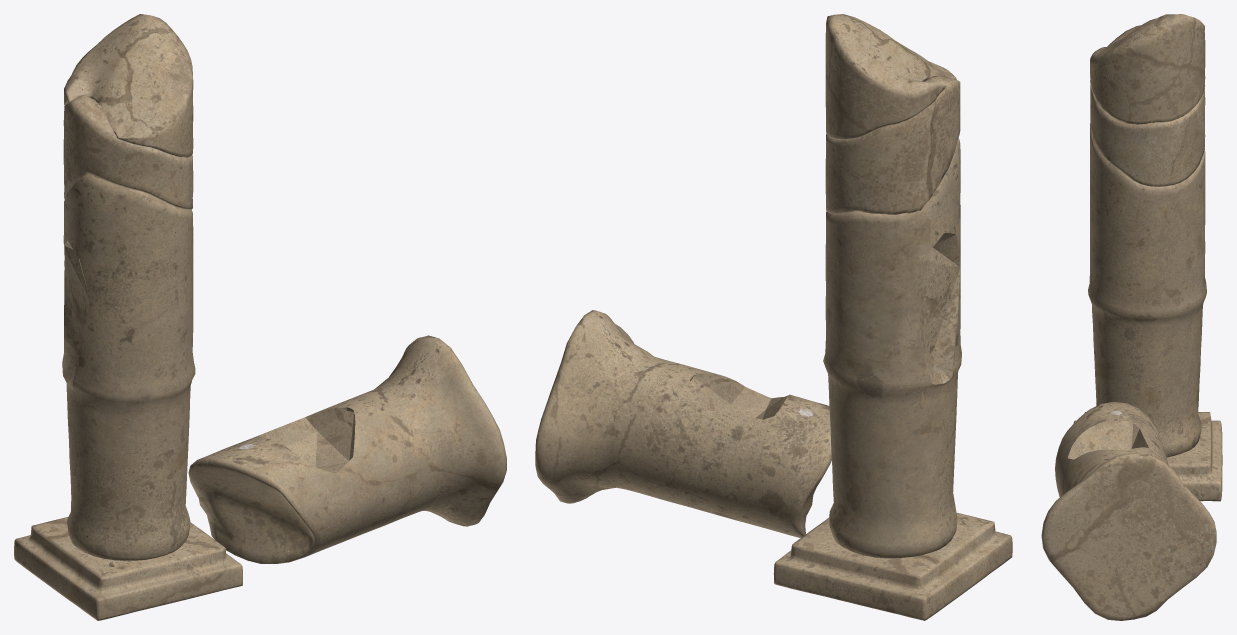
The model's file is kolon_1.fbx.
3 renders of one model, left to right at view 1: azimuth 30°, elevation 25°; view 2: azimuth 150°, elevation 25°; view 3: azimuth 270°, elevation 25°, orthographic. The views are drawn at different scales.
Parts seen in each view (by area): view 1: defaultMaterial.005, defaultMaterial.001; view 2: defaultMaterial.005, defaultMaterial.001; view 3: defaultMaterial.005, defaultMaterial.001.
Part boxes in pixels (box(x1,y1,x2,y2)): defaultMaterial.005: box(14, 14, 242, 620); defaultMaterial.001: box(188, 335, 506, 563); defaultMaterial.005: box(773, 14, 1012, 620); defaultMaterial.001: box(535, 310, 831, 537); defaultMaterial.005: box(1073, 14, 1222, 501); defaultMaterial.001: box(1041, 402, 1216, 620).
Bounding box in the file's own units: 475 × 633 × 213.
